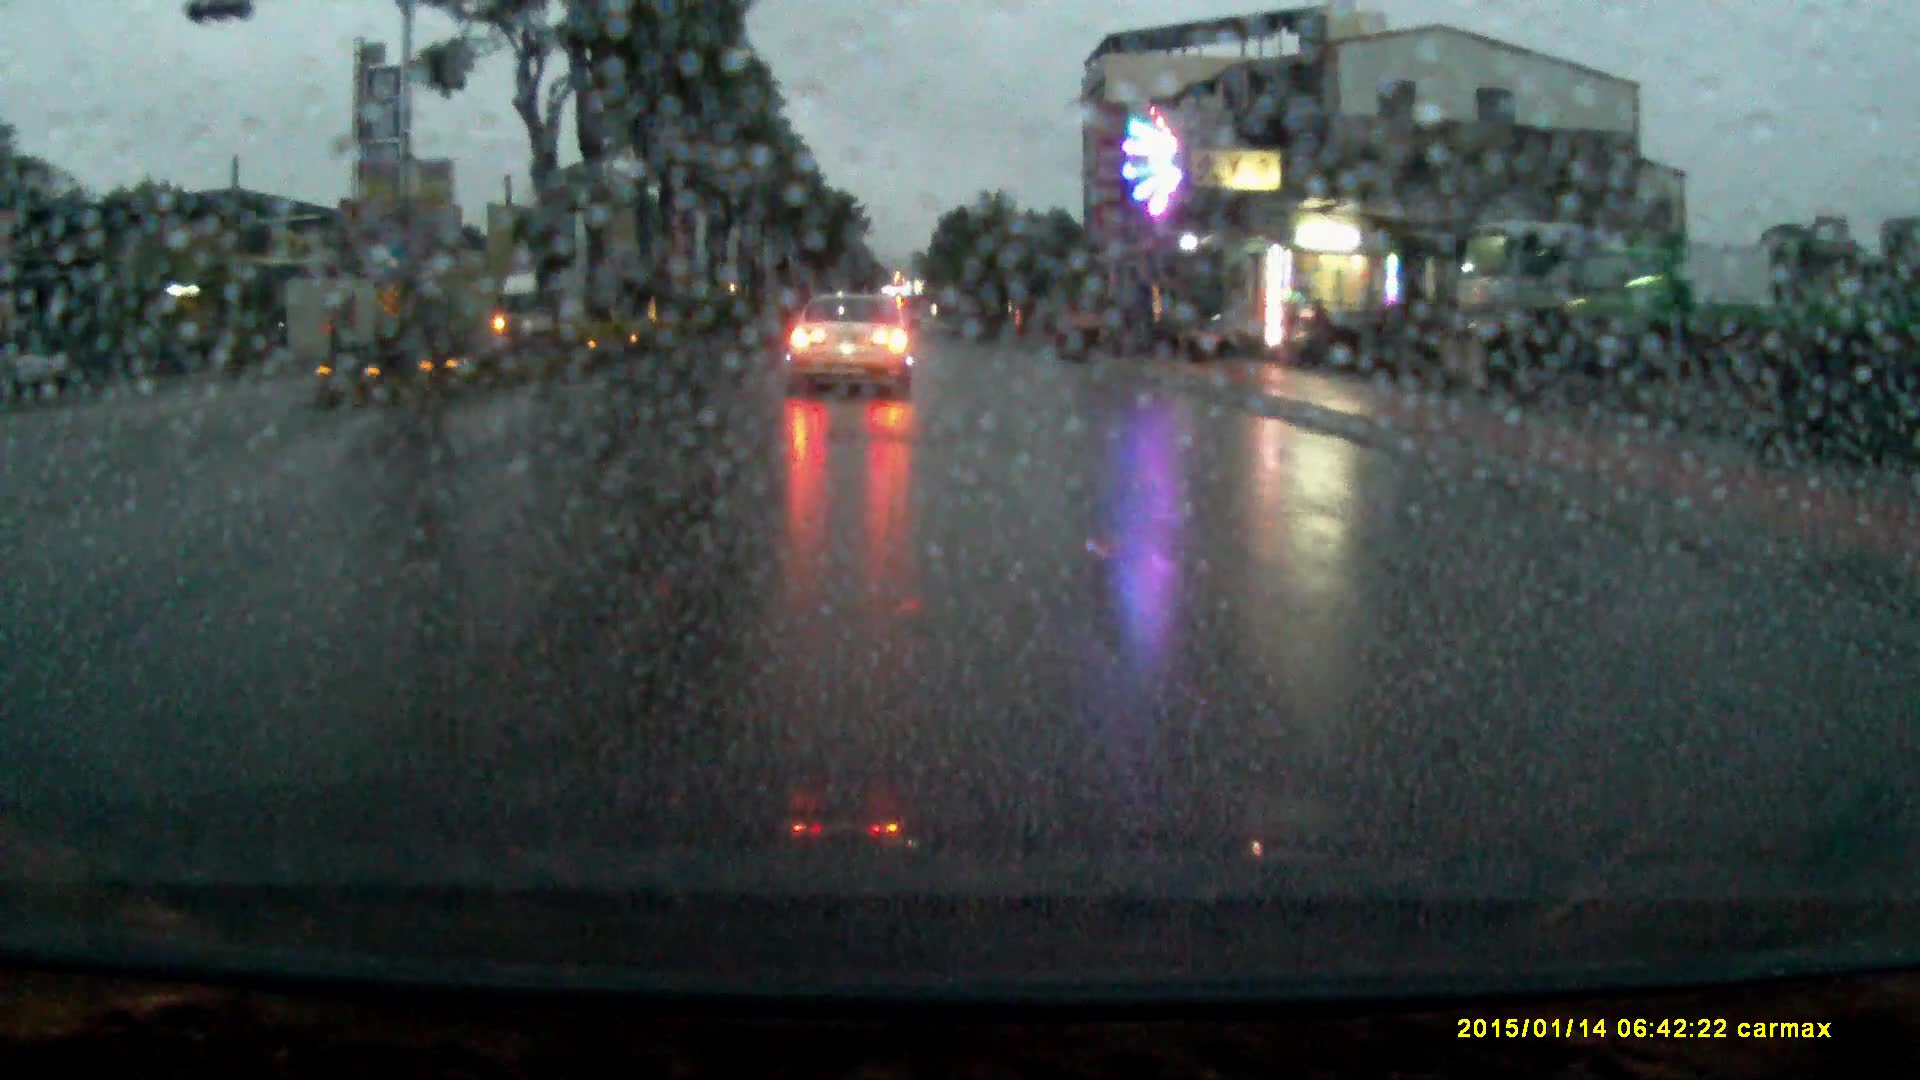vehicle: (1530, 253, 1870, 382), (1451, 225, 1592, 377), (783, 301, 916, 409), (492, 280, 580, 349)
